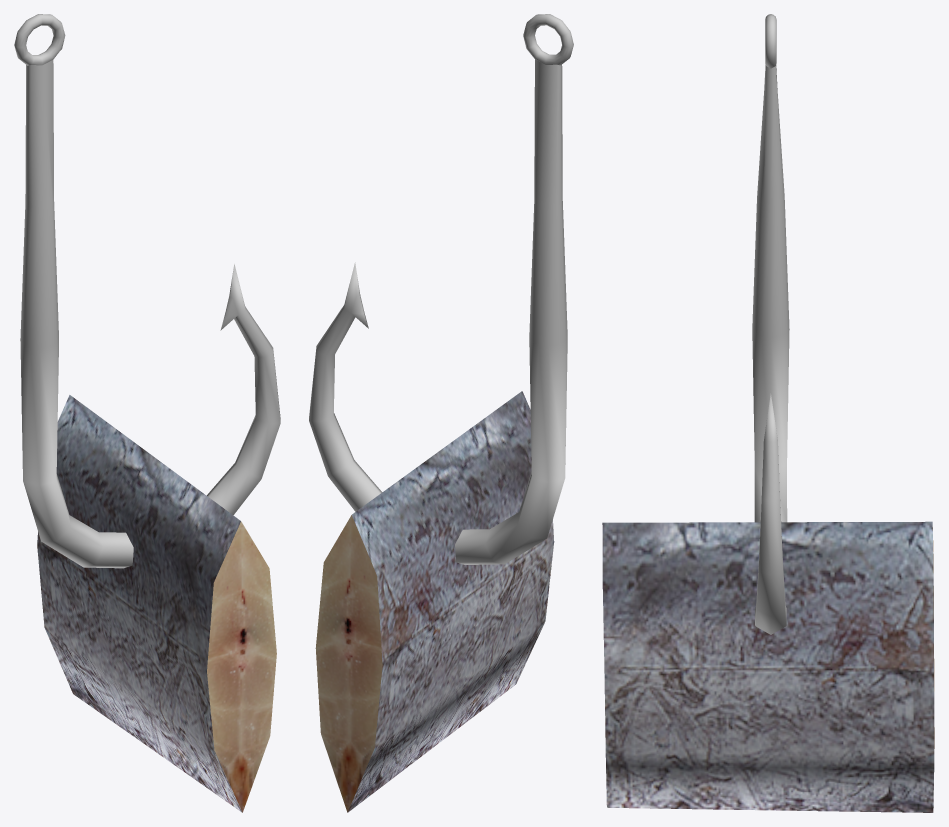
File: Bait_LargeheadHairtail.fbx
The picture shows the model from 3 angles, left to right: view 1: azimuth 30°, elevation 25°; view 2: azimuth 150°, elevation 25°; view 3: azimuth 270°, elevation 25°; orthographic projection. The views are drawn at different scales.
Visible parts, largest first — view 1: Bait_Hairtail; view 2: Bait_Hairtail; view 3: Bait_Hairtail.
Boxes of the visible parts, x1,y1,x2,y2 form: Bait_Hairtail: (14,14,280,812); Bait_Hairtail: (309,14,573,812); Bait_Hairtail: (602,14,934,812).
Size of the model in its own units: 0.2116 by 0.5864 by 0.2381.
